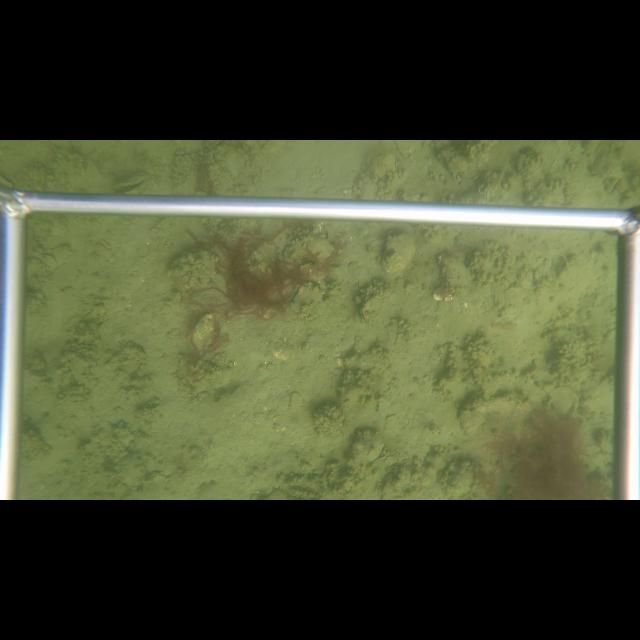Oyster-Closed: (380, 231, 416, 275), (438, 251, 472, 293), (190, 313, 216, 357), (359, 293, 384, 326)
Oyster-Open: (113, 172, 150, 194)
